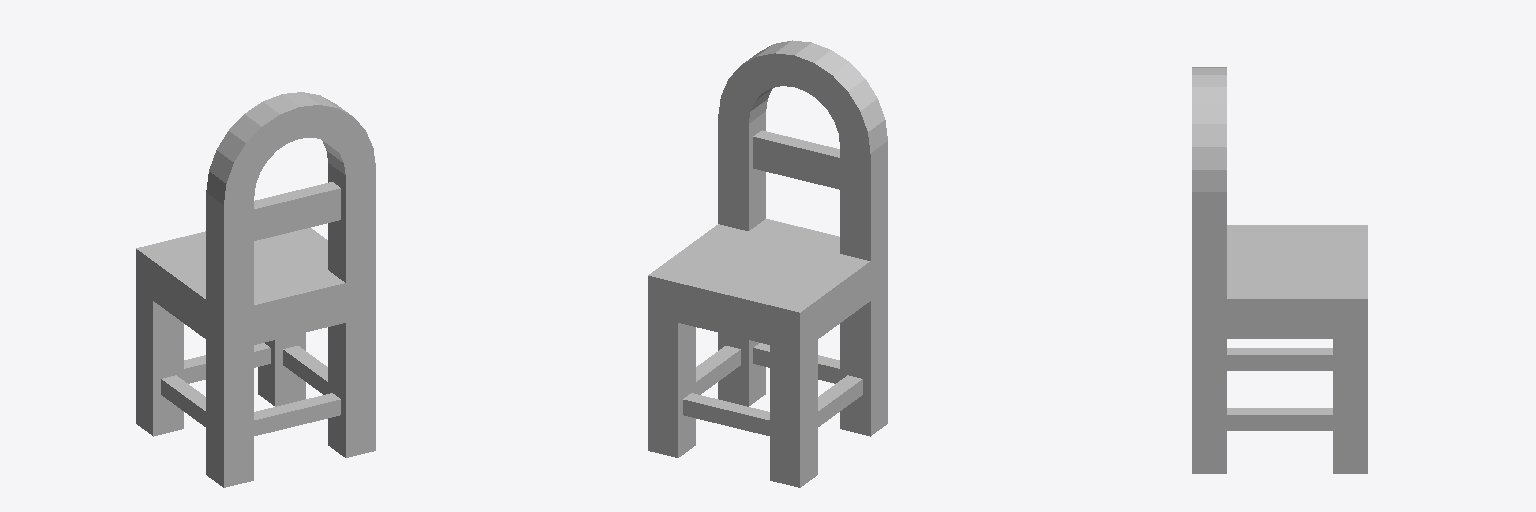
Rendered from chairRounded.obj.
The picture shows the model from 3 angles: view 1: azimuth 30°, elevation 25°; view 2: azimuth 150°, elevation 25°; view 3: azimuth 270°, elevation 25°; orthographic projection.
Visible parts, largest first — view 1: chairRounded; view 2: chairRounded; view 3: chairRounded.
Boxes of the visible parts, box(x1,y1,x2,y2) form: chairRounded: box(136, 92, 375, 487); chairRounded: box(648, 40, 887, 487); chairRounded: box(1192, 67, 1367, 473).
Bounding box in the file's own units: 0.2 × 0.455 × 0.2.